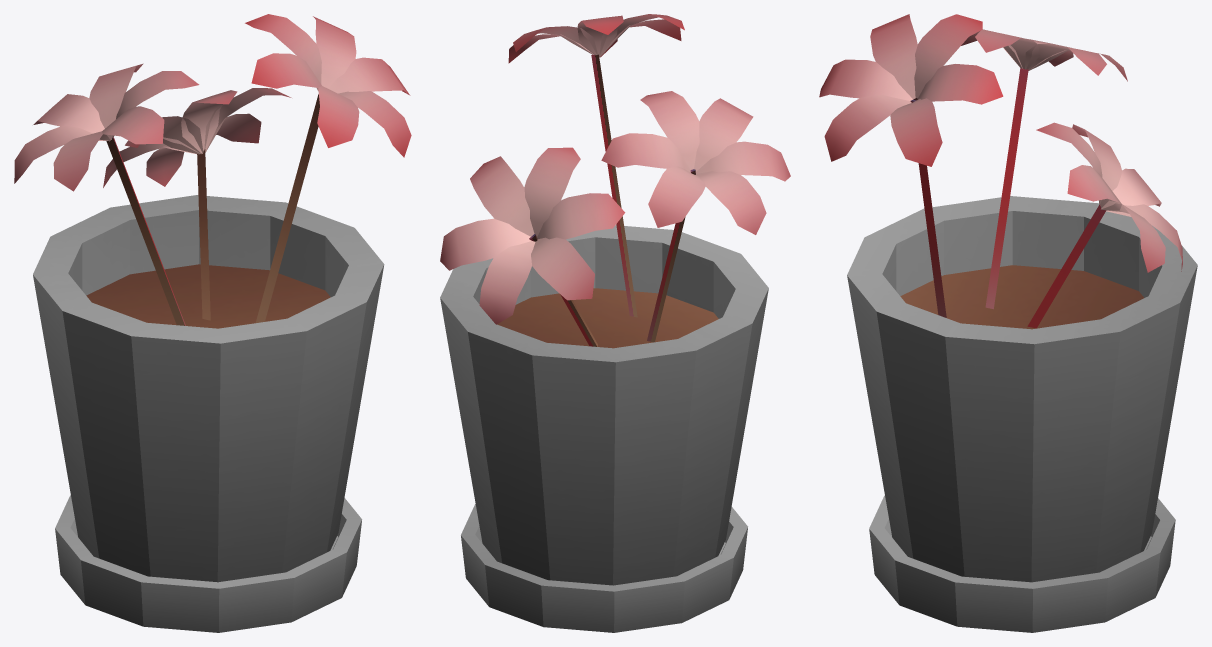
The model's file is plant_flowers.fbx.
The picture shows the model from 3 angles, left to right: view 1: azimuth 30°, elevation 25°; view 2: azimuth 150°, elevation 25°; view 3: azimuth 270°, elevation 25°; orthographic projection. The views are drawn at different scales.
Parts seen in each view (by area): view 1: pot, plate, flower2, flower1, flower3; view 2: pot, flower3, flower1, plate, flower2; view 3: pot, plate, flower2, flower3, flower1.
Part boxes in pixels (bbox=[...]): pot: bbox=[33, 195, 384, 582]; plate: bbox=[55, 495, 361, 632]; flower2: bbox=[245, 14, 411, 322]; flower1: bbox=[14, 63, 199, 325]; flower3: bbox=[103, 88, 291, 320]; pot: bbox=[440, 225, 768, 585]; flower3: bbox=[440, 147, 625, 346]; flower1: bbox=[601, 91, 790, 342]; plate: bbox=[461, 504, 747, 632]; flower2: bbox=[508, 14, 684, 317]; pot: bbox=[847, 196, 1197, 582]; plate: bbox=[869, 495, 1175, 632]; flower2: bbox=[819, 14, 1003, 317]; flower3: bbox=[1027, 122, 1182, 328]; flower1: bbox=[961, 29, 1127, 309].
Size of the model in its own units: 11.99 by 19.46 by 11.88.
